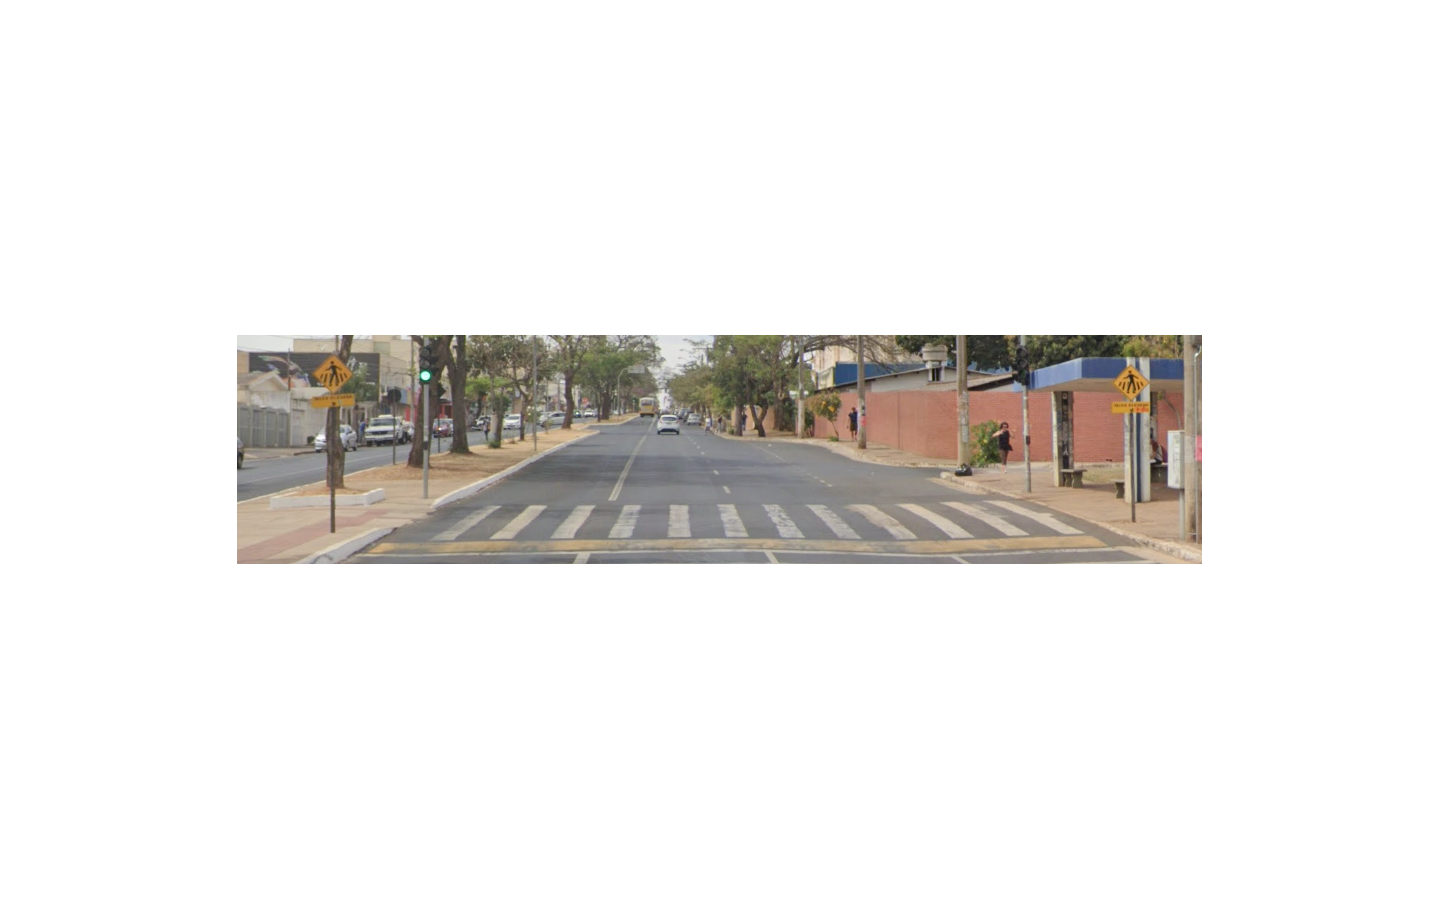telev: (311, 353, 355, 409), (1112, 364, 1151, 413)
